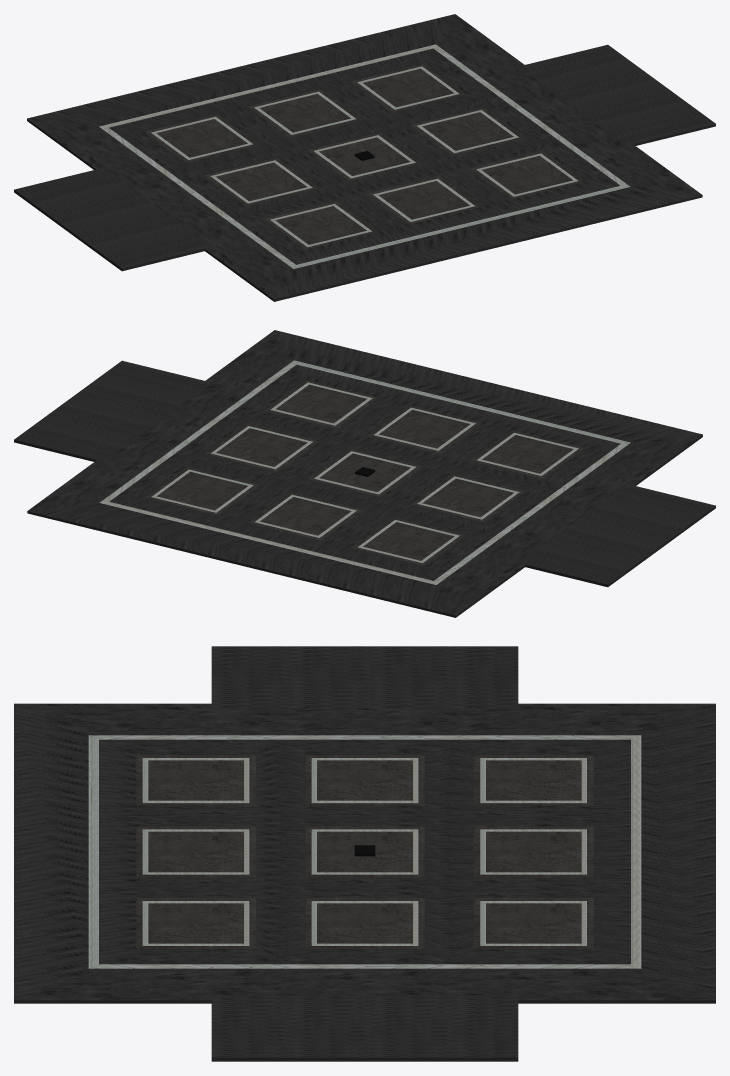
The model's file is Environment_ClassicalFloor_Dark.glb.
The picture shows the model from 3 angles, top to bottom: view 1: azimuth 30°, elevation 25°; view 2: azimuth 150°, elevation 25°; view 3: azimuth 270°, elevation 25°; orthographic projection. The views are drawn at different scales.
Parts seen in each view (by area): view 1: Cube.025, Cube.007, Cube.030, Cube.029, Cube.024, Cube.014, Cube.018, Cube.009, Cube.013, Cube.022, Cube.017, Cube.021 (+11 smaller); view 2: Cube.025, Cube.007, Cube.030, Cube.029, Cube.024, Cube.013, Cube.010, Cube.014, Cube.018, Cube.017, Cube.022, Cube.009 (+11 smaller); view 3: Cube.025, Cube.007, Cube.029, Cube.030, Cube.024, Cube.017, Cube.018, Cube.005, Cube.009, Cube.010, Cube.014, Cube.013 (+11 smaller).
Part boxes in pixels (x1,y1,x2,y2): Cube.025: (27, 14, 702, 301); Cube.007: (109, 48, 620, 264); Cube.030: (14, 167, 211, 271); Cube.029: (518, 44, 715, 145); Cube.024: (99, 44, 630, 268); Cube.014: (351, 64, 465, 112); Cube.018: (367, 176, 481, 224); Cube.009: (410, 107, 524, 155); Cube.013: (145, 114, 259, 162); Cube.022: (264, 201, 377, 249); Cube.017: (248, 89, 362, 137); Cube.021: (470, 151, 584, 199); Cube.025: (27, 330, 702, 617); Cube.007: (109, 364, 620, 580); Cube.030: (518, 483, 715, 587); Cube.029: (14, 360, 211, 461); Cube.024: (99, 360, 630, 584); Cube.013: (352, 517, 465, 565); Cube.010: (411, 473, 525, 521); Cube.014: (145, 467, 259, 515); Cube.018: (367, 405, 481, 453); Cube.017: (248, 492, 362, 540); Cube.022: (470, 430, 584, 478); Cube.009: (205, 423, 319, 471); Cube.025: (14, 703, 715, 1003); Cube.007: (99, 739, 630, 964); Cube.029: (211, 995, 518, 1061); Cube.030: (211, 646, 518, 708); Cube.024: (88, 735, 641, 968); Cube.017: (474, 826, 593, 877); Cube.018: (136, 826, 255, 877); Cube.005: (305, 826, 424, 877); Cube.009: (305, 898, 424, 948); Cube.010: (305, 755, 424, 805); Cube.014: (474, 898, 593, 948); Cube.013: (474, 755, 593, 805).
Size of the model in its own units: 78.06 by 0.5801 by 56.29.
Materials: 4 (3 with a texture image).
